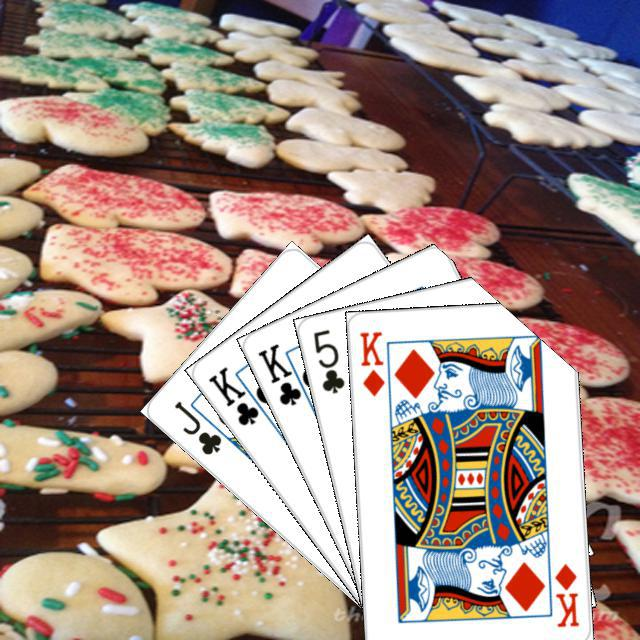5c: (308, 324, 347, 396)
Jc: (169, 396, 224, 457)
Kc: (203, 361, 273, 428), (252, 338, 314, 408)
Kd: (355, 326, 386, 398), (549, 559, 580, 629)
